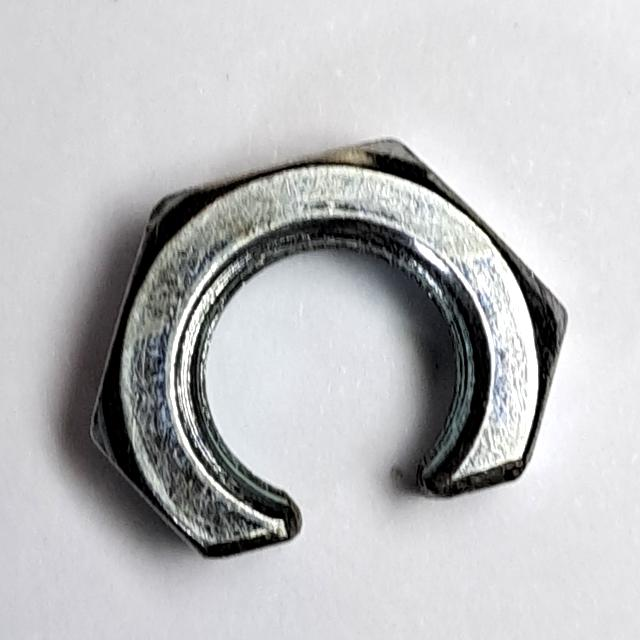Fracture: (74, 126, 581, 575)
